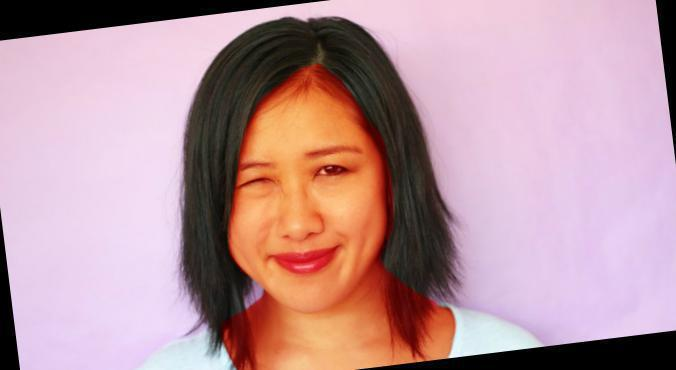Drunk: (230, 86, 384, 310)
